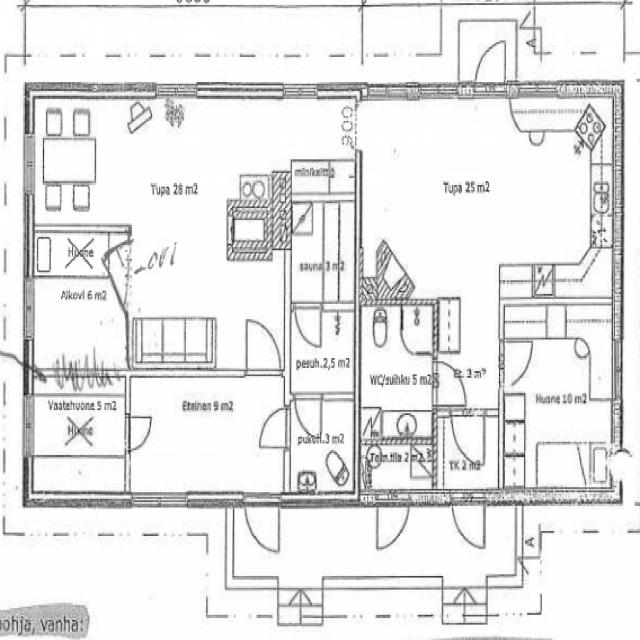door: (288, 393, 356, 498), (289, 306, 356, 397), (241, 313, 283, 378), (241, 493, 282, 558), (470, 33, 509, 99), (448, 409, 488, 471), (449, 491, 486, 552), (253, 401, 291, 454), (376, 497, 410, 553), (432, 358, 469, 409), (502, 335, 536, 387), (292, 300, 326, 351), (292, 392, 324, 442), (124, 408, 158, 454)
window: (128, 486, 192, 513), (515, 77, 560, 107), (20, 127, 38, 201), (364, 82, 413, 108), (20, 273, 37, 347), (610, 332, 626, 404), (19, 391, 34, 461), (279, 80, 321, 104), (156, 80, 199, 102), (549, 524, 589, 538)
zone: (20, 94, 263, 232), (501, 326, 618, 494), (26, 372, 129, 502), (359, 303, 435, 439), (27, 274, 131, 372), (290, 193, 357, 306), (532, 2, 628, 78), (286, 396, 354, 498), (289, 309, 356, 397), (360, 438, 436, 501), (31, 227, 119, 279), (397, 303, 438, 355), (436, 295, 462, 356)
